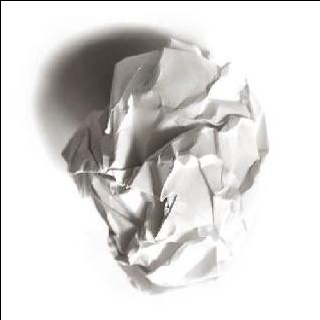8/可回收垃圾/纸: (59, 36, 269, 291)
